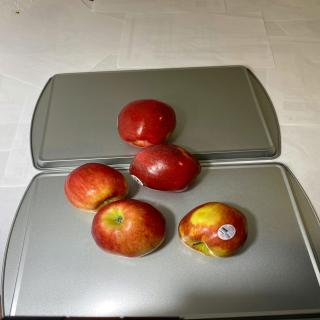Apple: (91, 198, 166, 258), (178, 202, 248, 258), (129, 142, 201, 192), (64, 162, 128, 212), (117, 98, 177, 148)
